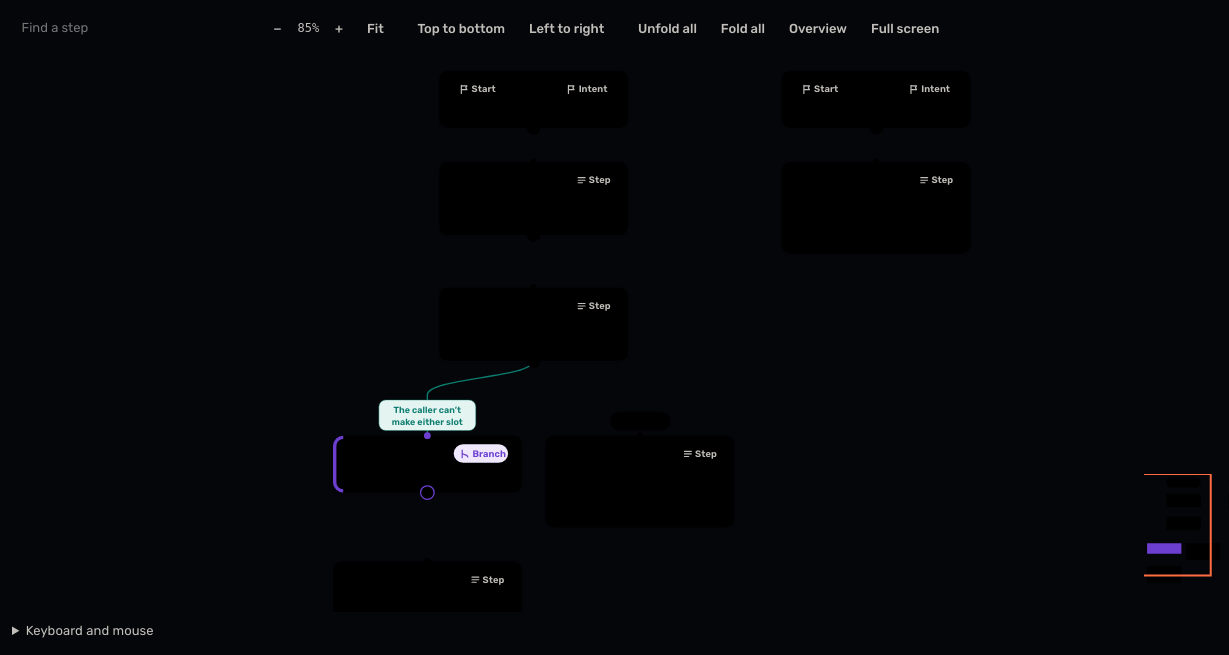
Test case: FlowCanvas find › highlights matches, and Enter cycles through them, centring each
This screenshot has width=1229, height=655.
Type "offer" into the search field labelled "Find a step" at (100, 28), box x1=12 y1=12 x2=188 y2=44
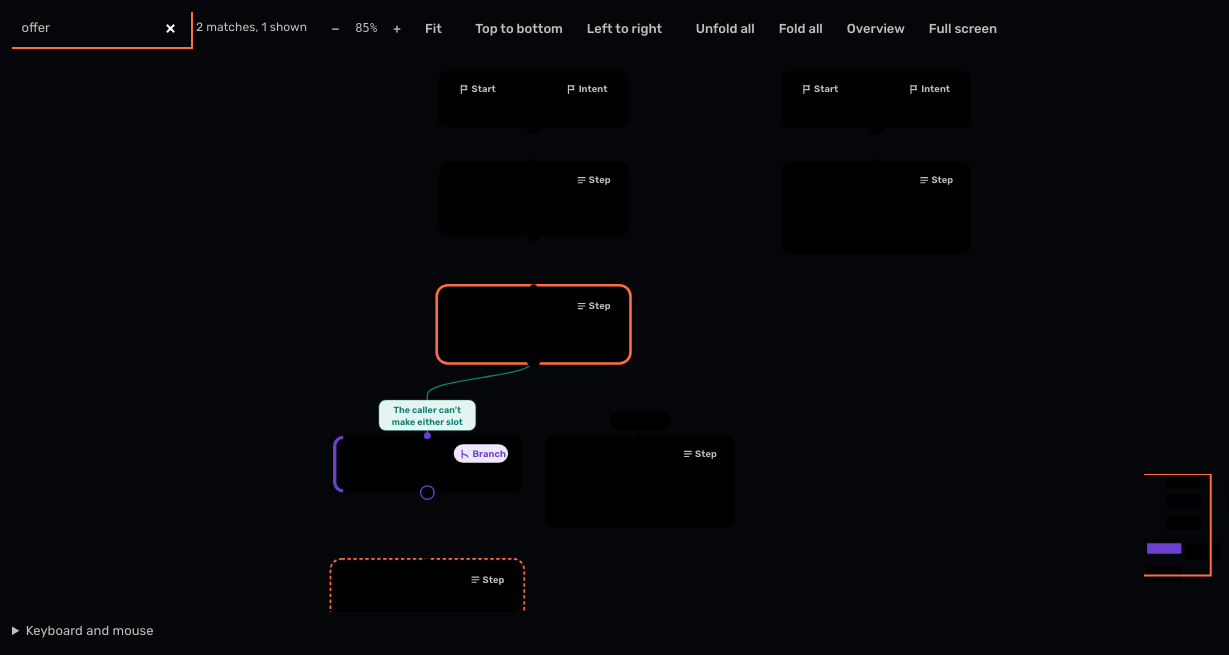
Expected: the text "2 matches, 1 shown" is shown, x1=196 y1=18 x2=307 y2=38
Press Enter
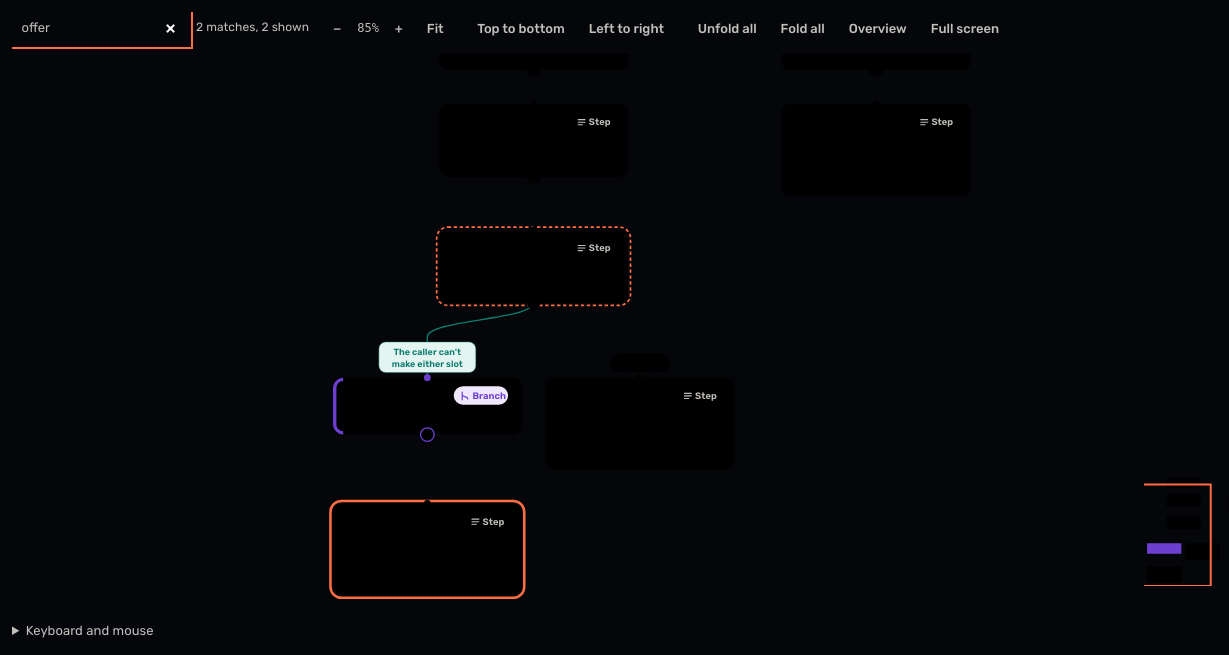
Expected: the text "2 matches, 2 shown" is shown, x1=196 y1=18 x2=309 y2=38
// It wraps, and Shift+Enter goes back.
Press Enter
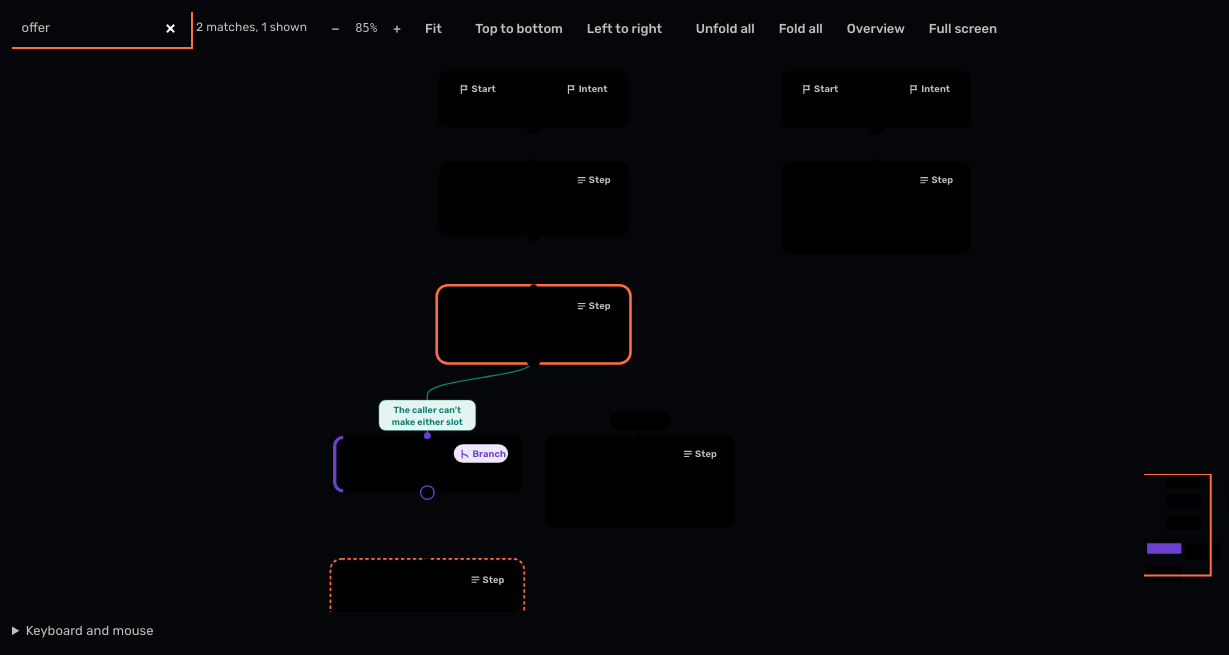
Type keys "{Shift>}{Enter}{/Shift}"
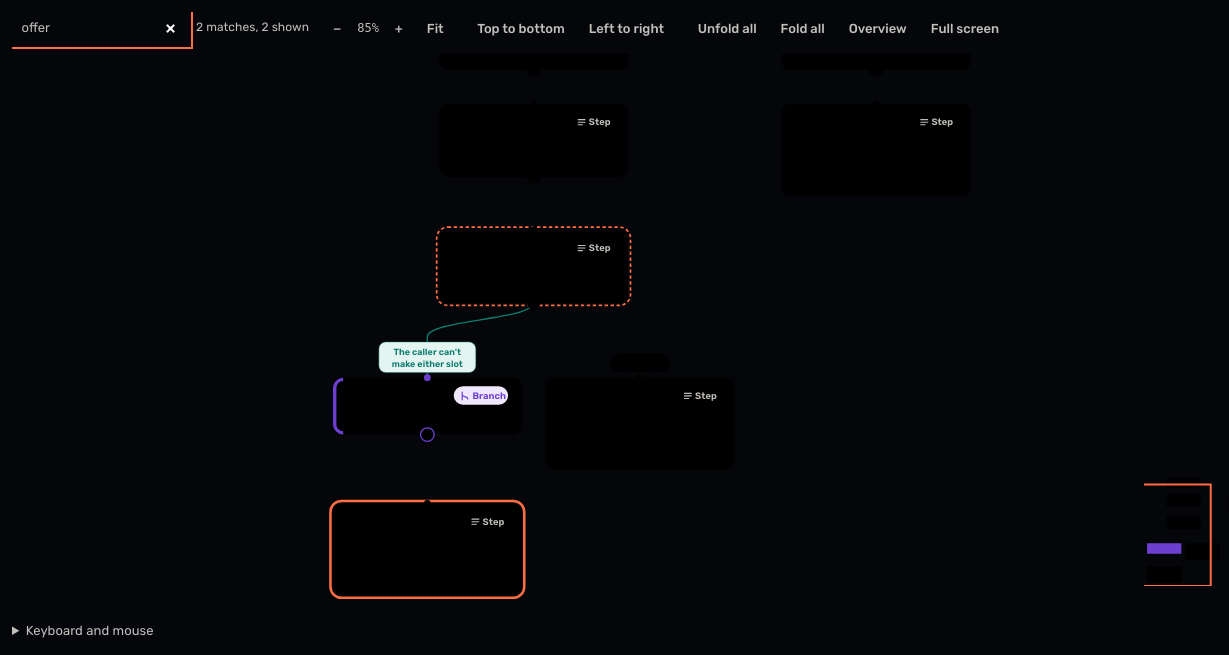
// It looks in what the agent says and in conditions too.
Replace the text in the search field named "Find a step" with "either slot" at (100, 28), box x1=12 y1=12 x2=188 y2=44
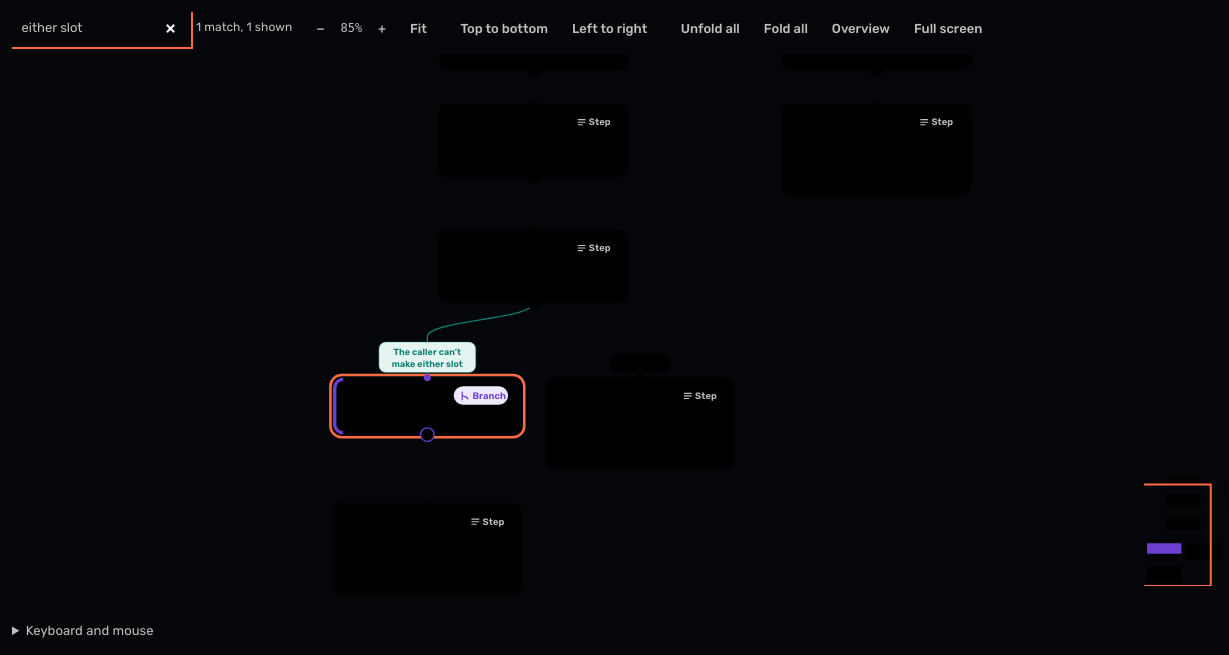
Replace the text in the search field named "Find a step" with "zzz" at (100, 28), box x1=12 y1=12 x2=188 y2=44
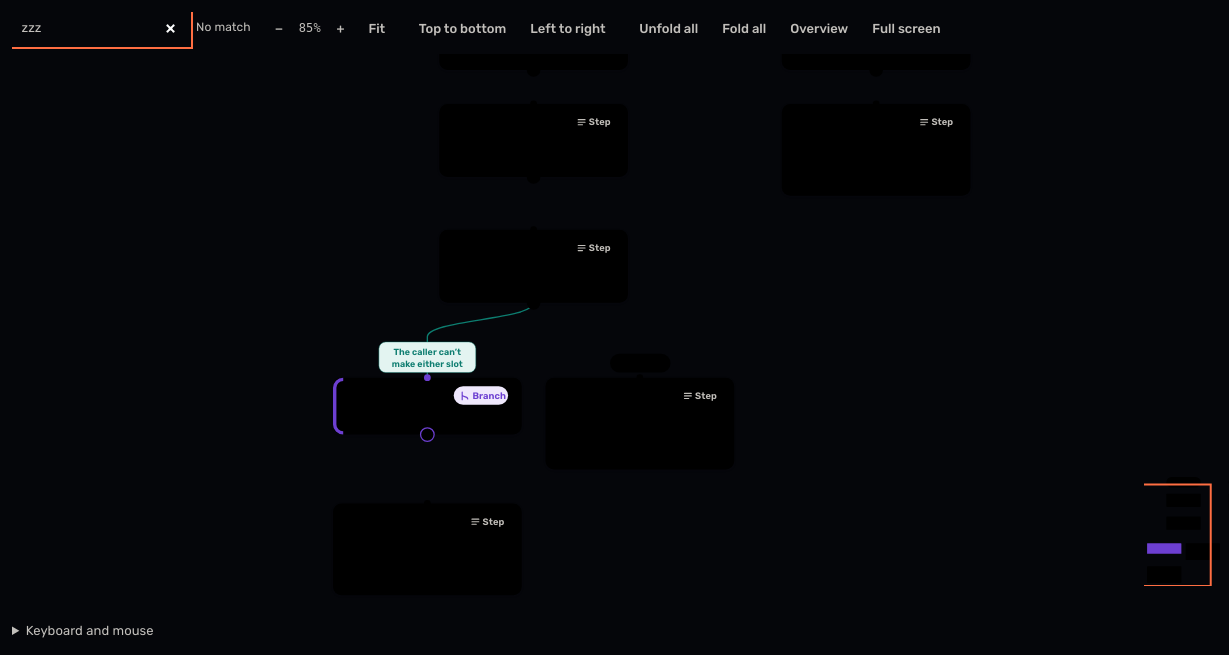
Expected: the text "No match" is shown, x1=196 y1=18 x2=251 y2=38
